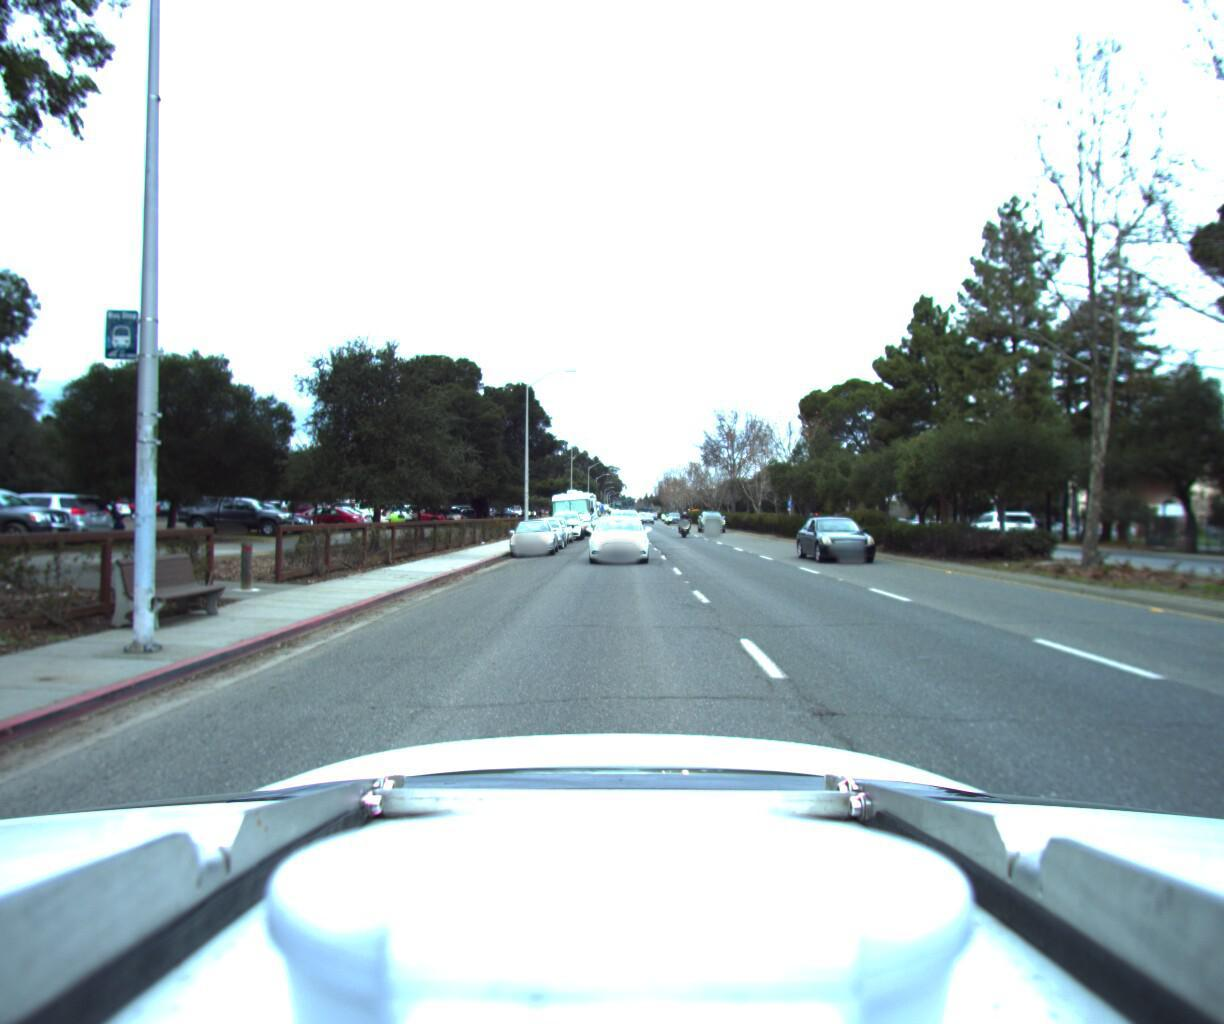car: (798, 508, 893, 565), (583, 508, 646, 562), (948, 507, 1023, 542), (506, 509, 559, 550), (521, 506, 567, 544), (547, 501, 584, 535), (533, 508, 572, 536), (608, 504, 644, 535), (409, 499, 465, 519), (444, 500, 496, 517), (698, 504, 730, 525)
motorcycle: (678, 504, 696, 533)
other_vehicle: (544, 477, 600, 530), (572, 488, 602, 520)
